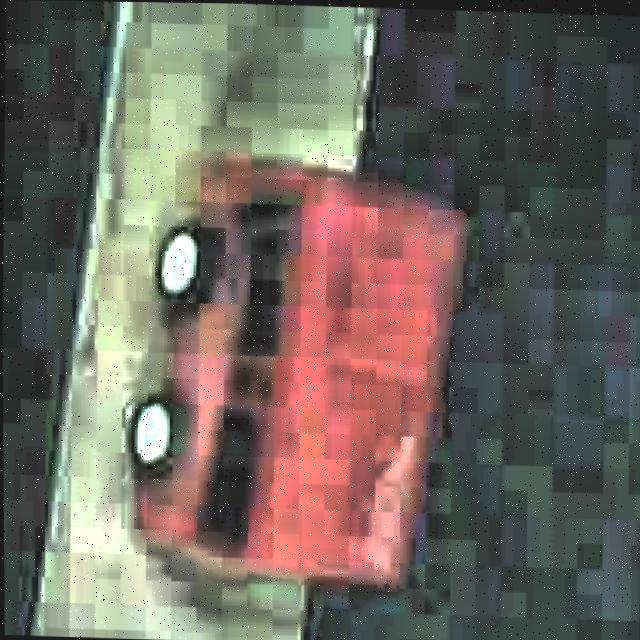bus: (122, 155, 463, 585)
